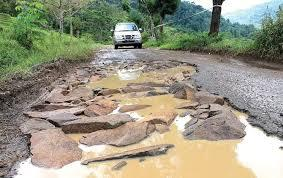Pothole: (24, 46, 283, 178)
